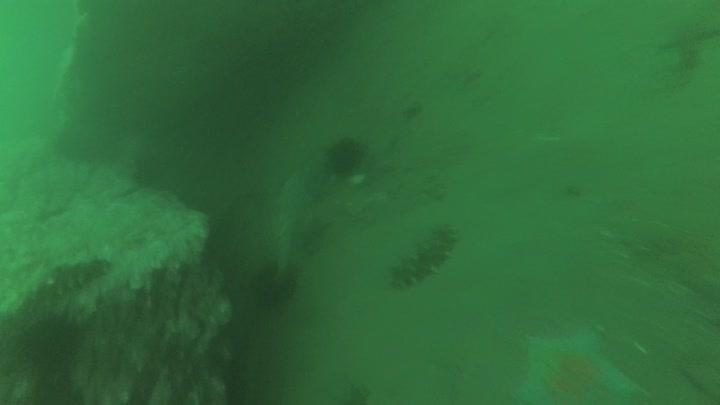echinus: (17, 307, 86, 375)
holothurian: (12, 250, 113, 307), (385, 221, 461, 292)
starfish: (510, 321, 650, 404)
